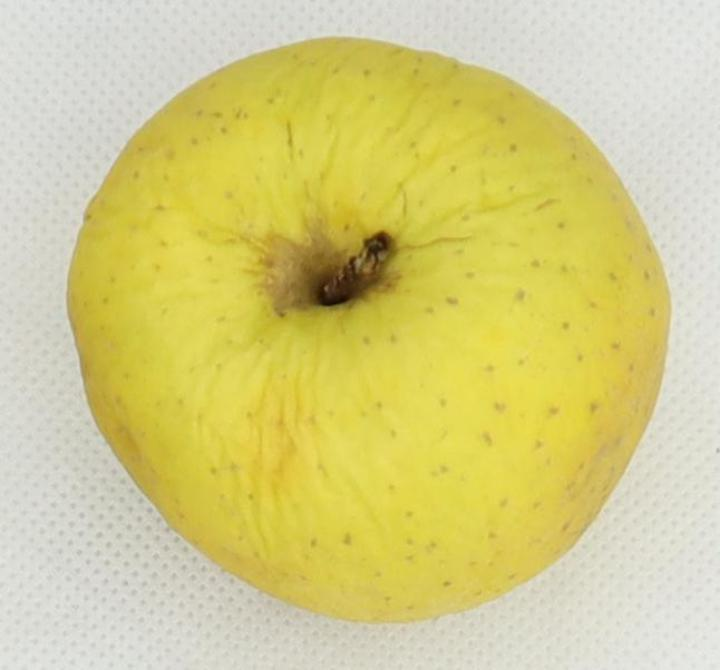apple: (68, 39, 669, 622)
